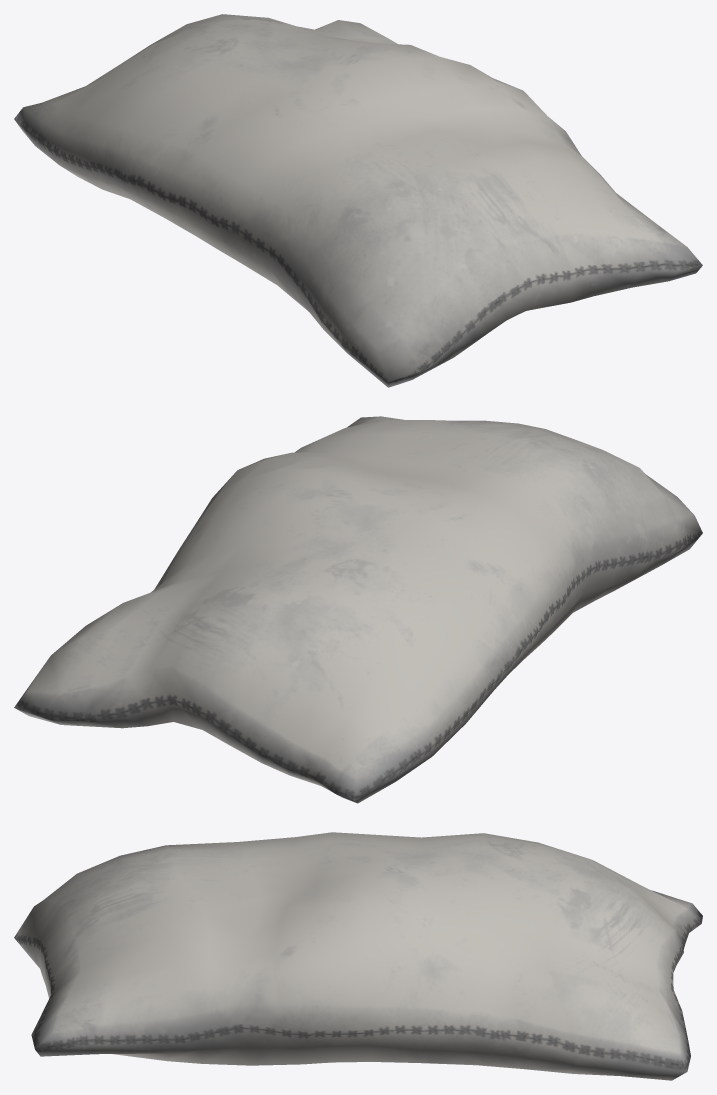
Rendered from SM_FlourBags2.fbx.
The picture shows the model from 3 angles, top to bottom: view 1: azimuth 30°, elevation 25°; view 2: azimuth 150°, elevation 25°; view 3: azimuth 270°, elevation 25°; orthographic projection. The views are drawn at different scales.
Parts seen in each view (by area): view 1: SM_FlourBags2_LOD0; view 2: SM_FlourBags2_LOD0; view 3: SM_FlourBags2_LOD0.
Boxes of the visible parts, x1,y1,x2,y2 form: SM_FlourBags2_LOD0: [14, 14, 702, 387]; SM_FlourBags2_LOD0: [14, 416, 702, 803]; SM_FlourBags2_LOD0: [14, 832, 702, 1080].
Bounding box in the file's own units: 99.74 × 171 × 44.31.
1 material, 1 textured.
